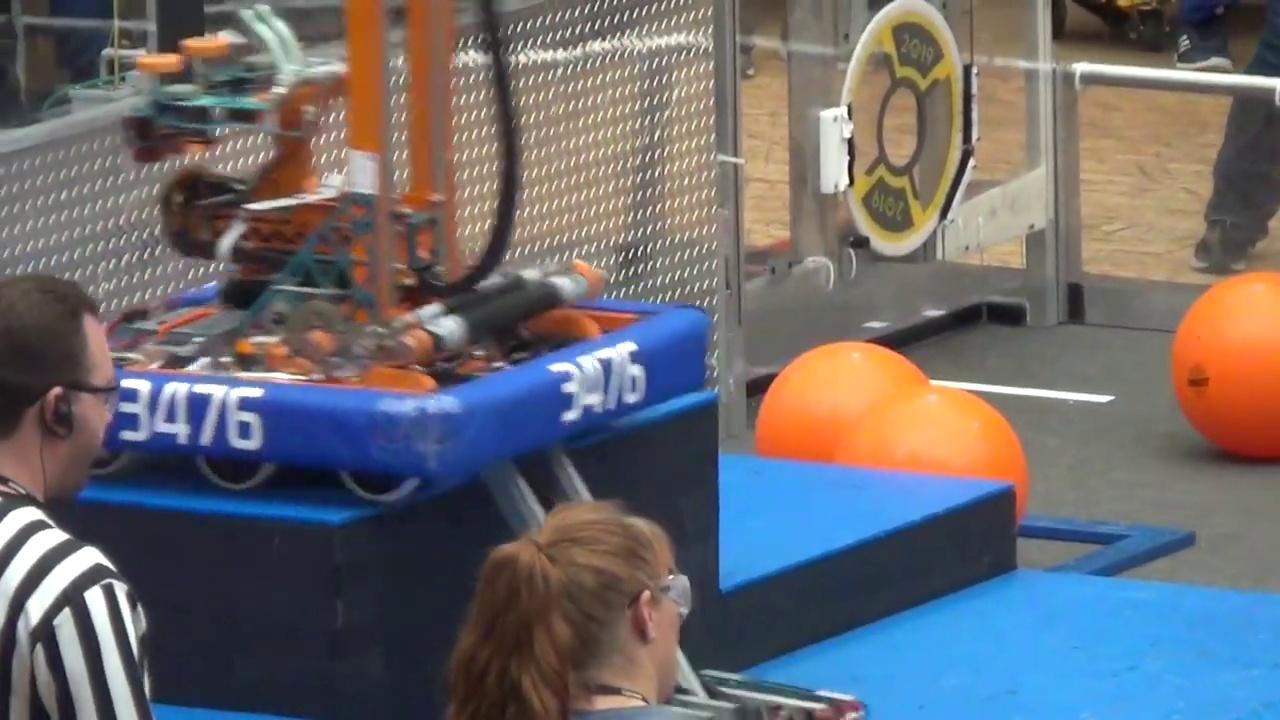robot: (102, 0, 713, 509)
